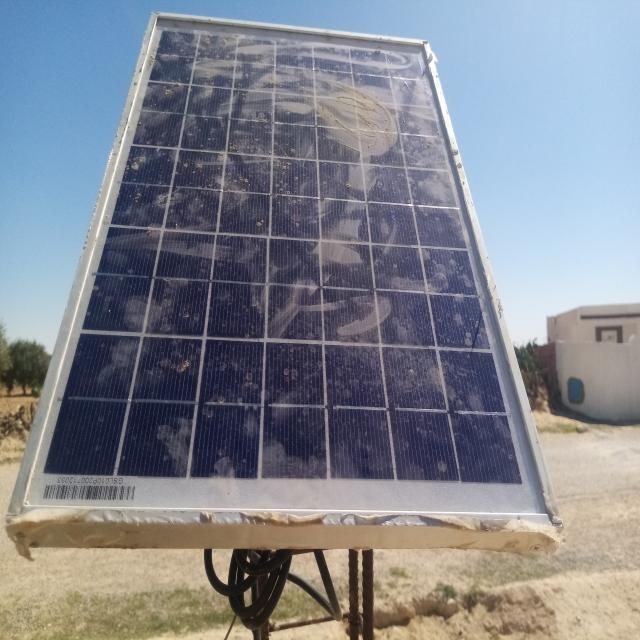faulty: (15, 14, 562, 525)
